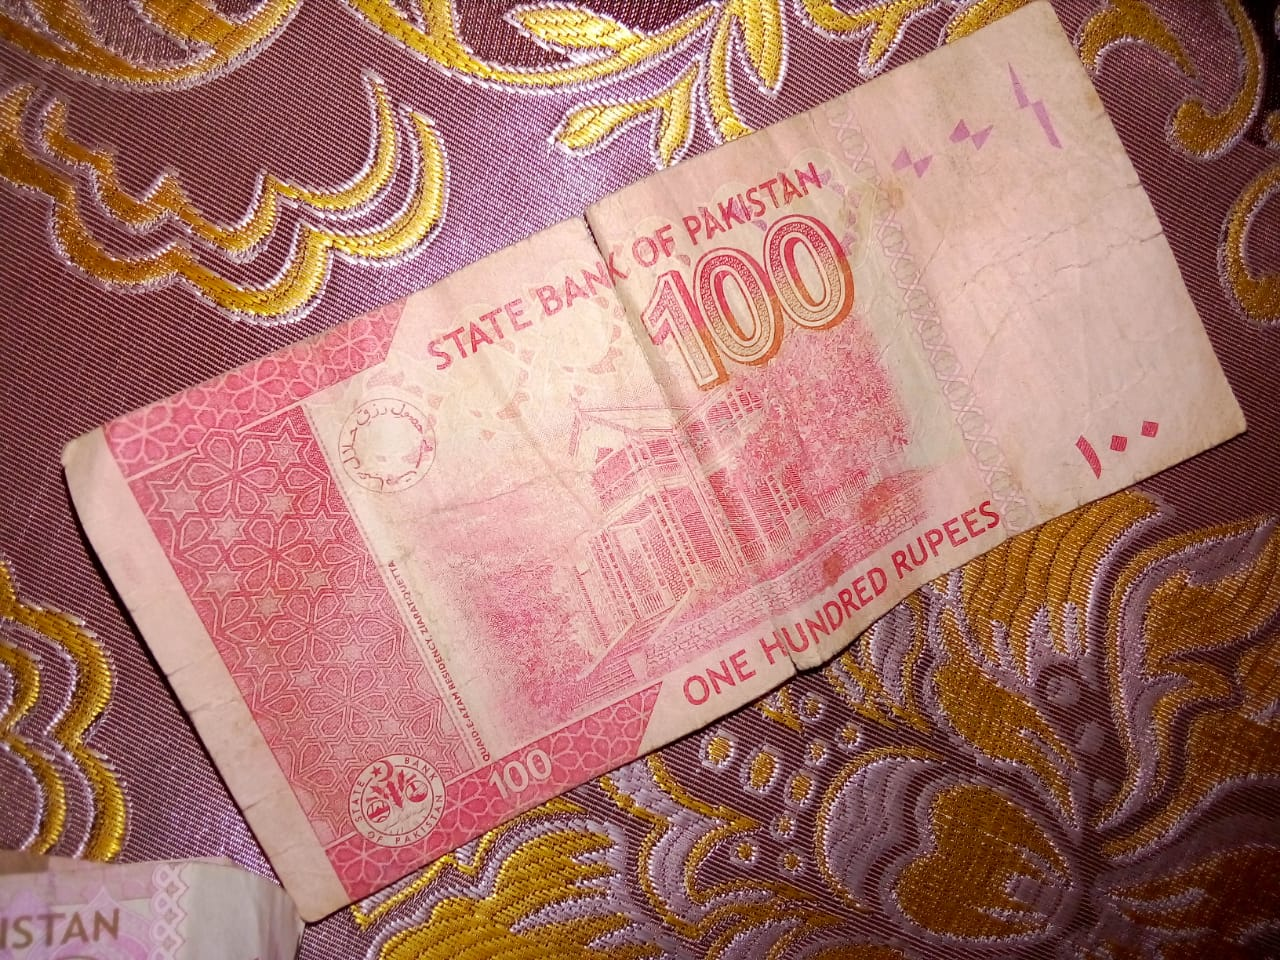100 rupee: (48, 18, 1271, 940)
